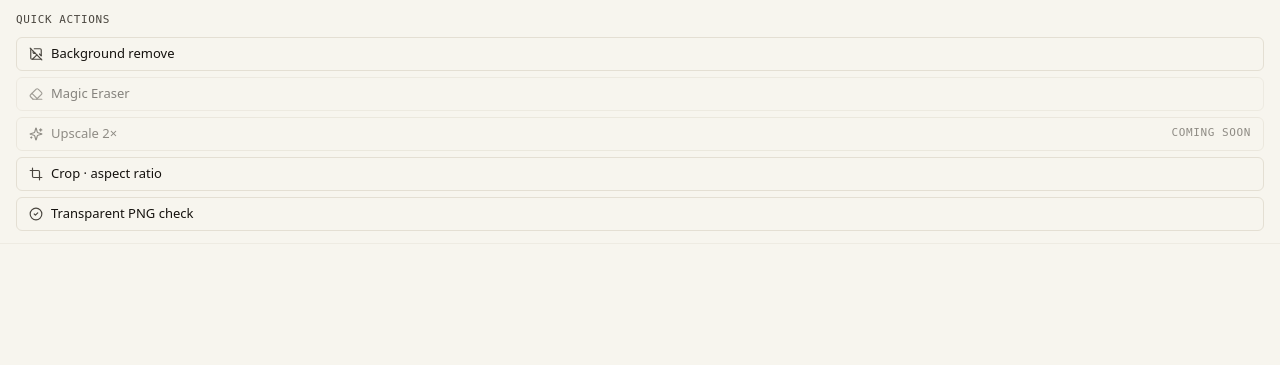
Scenario: QuickActions — Crop dropdown › Crop tıklayınca 4 ratio listesi görünür
Click the button "Crop · aspect ratio". click: (106, 173)
box: [16, 156, 1264, 190]
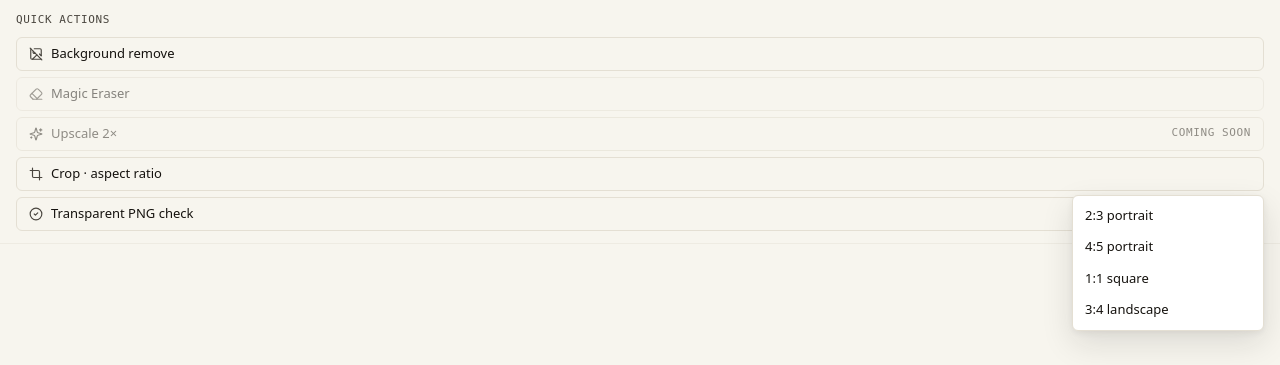
Expected: the menu item "2:3 portrait" is shown, [1077, 200, 1259, 231]
Expected: the menu item "4:5 portrait" is shown, [1077, 231, 1259, 262]
Expected: the menu item "1:1 square" is shown, [1077, 262, 1259, 294]
